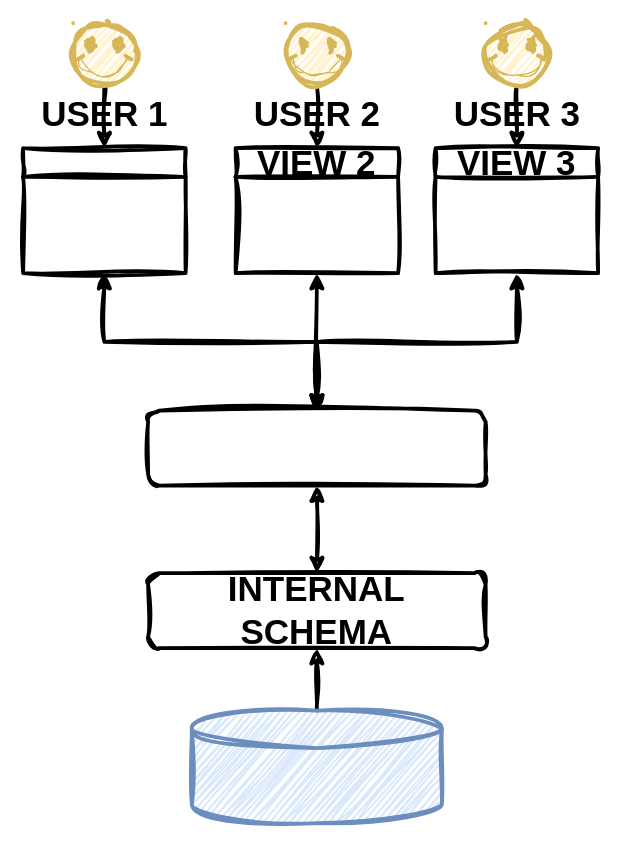
Image size: 621x846. Some labels were removed from this diagram. The shapes that lost their labels are listed below. From the top down, each one's box as (x1, y1, x2, y2) in pixels, then its label:
(21, 146, 187, 274): VIEW 1
(146, 408, 487, 487): SCHEMA
(189, 708, 443, 824): DATABASE
